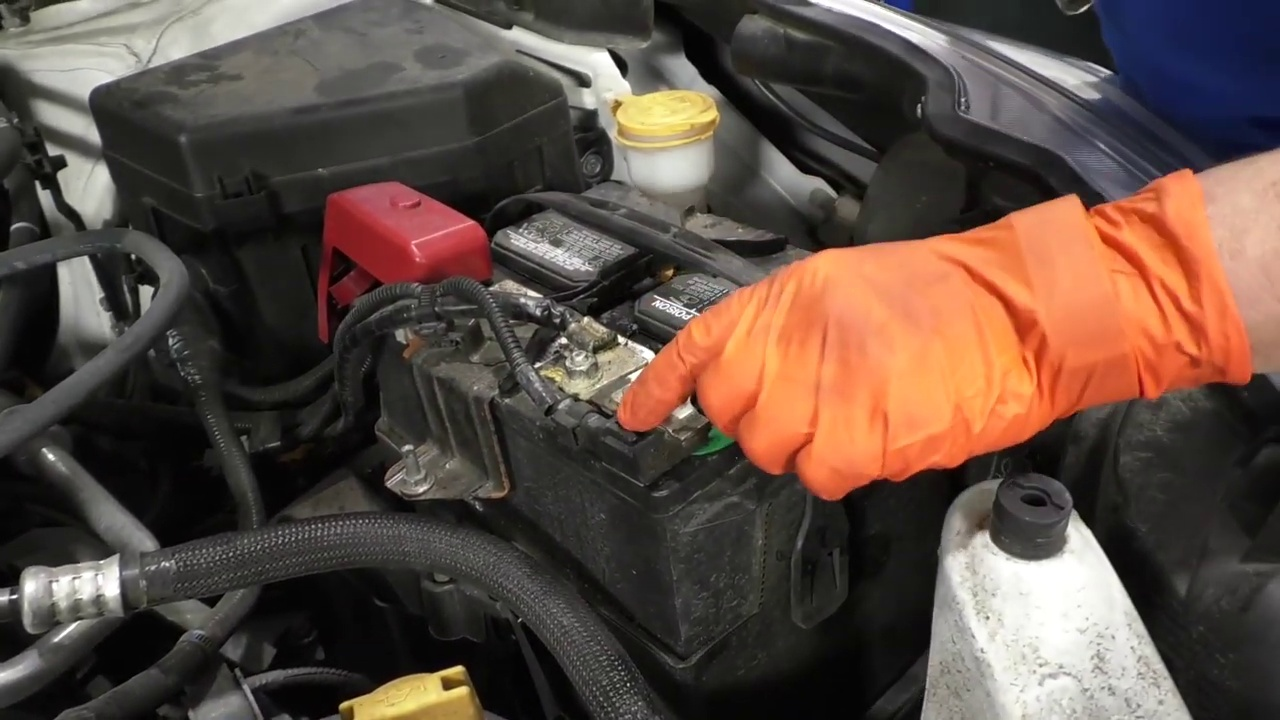battery: (312, 182, 914, 469)
pos_connected: (299, 180, 509, 348)
